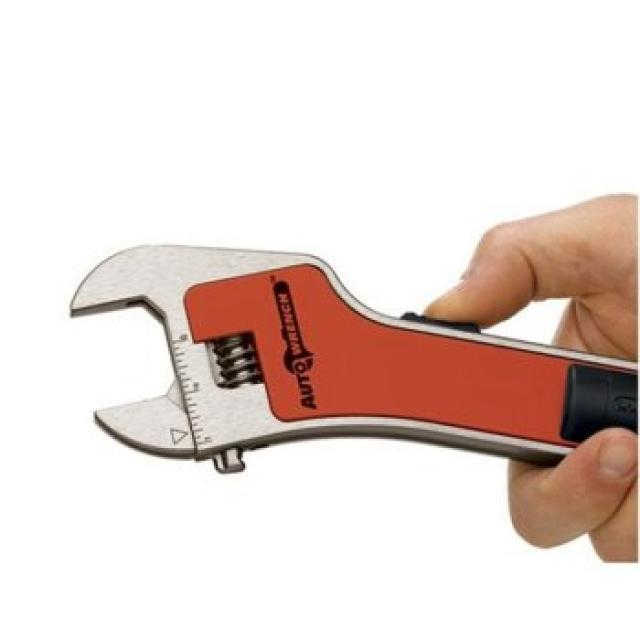wrench: (24, 218, 387, 514)
